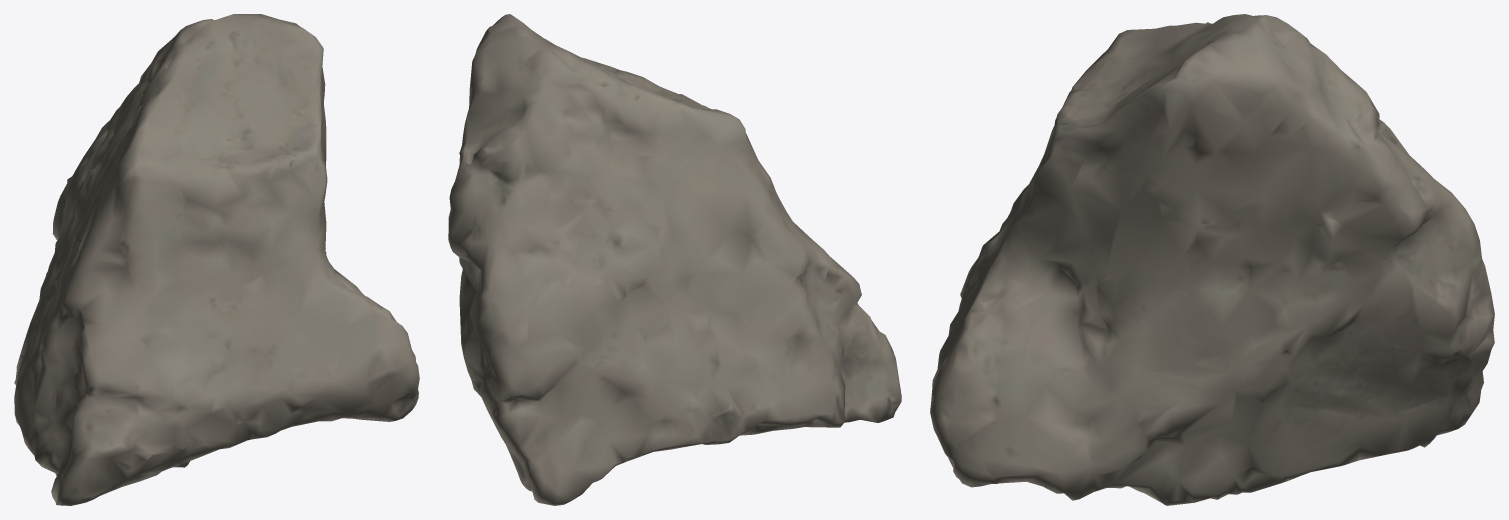
The model's file is moon_rock_05.glb.
3 views of the same model, side by side, from view 1: azimuth 30°, elevation 25°; view 2: azimuth 150°, elevation 25°; view 3: azimuth 270°, elevation 25° (orthographic). The views are drawn at different scales.
Visible parts, largest first — view 1: moon_rock_05_LOD0; view 2: moon_rock_05_LOD0; view 3: moon_rock_05_LOD0.
Boxes of the visible parts, <box> form: moon_rock_05_LOD0: <box>14,14,419,505</box>; moon_rock_05_LOD0: <box>448,14,901,505</box>; moon_rock_05_LOD0: <box>930,14,1494,505</box>.
Bounding box in the file's own units: 0.0717 × 0.0734 × 0.0811.
1 material, 1 textured.
